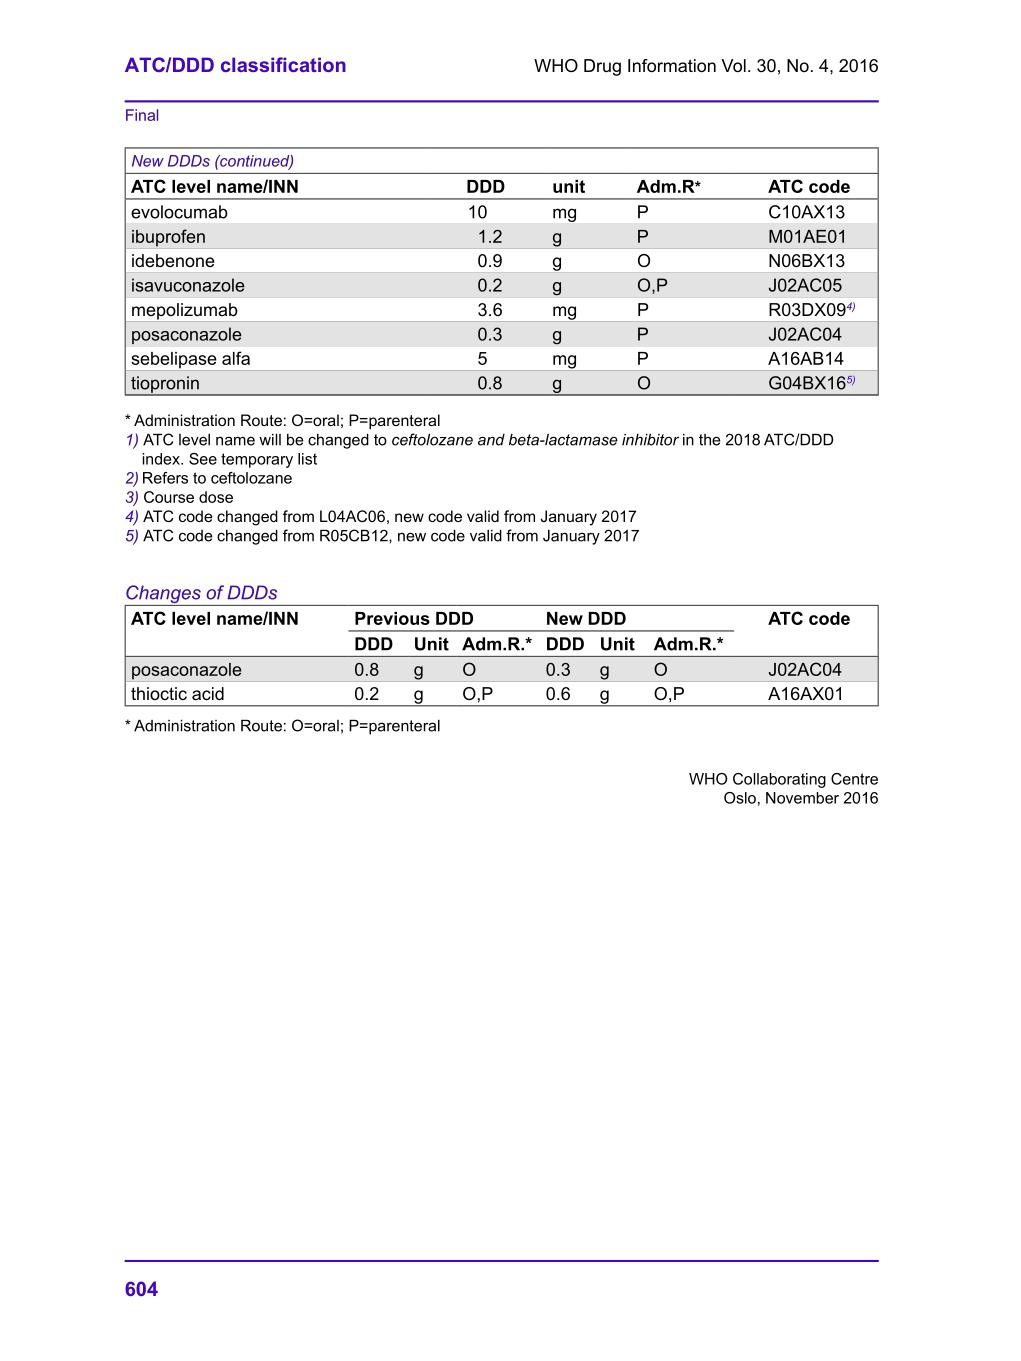partial_lined: (124, 145, 881, 397)
partial_lined_merged_cells: (124, 603, 881, 707)
